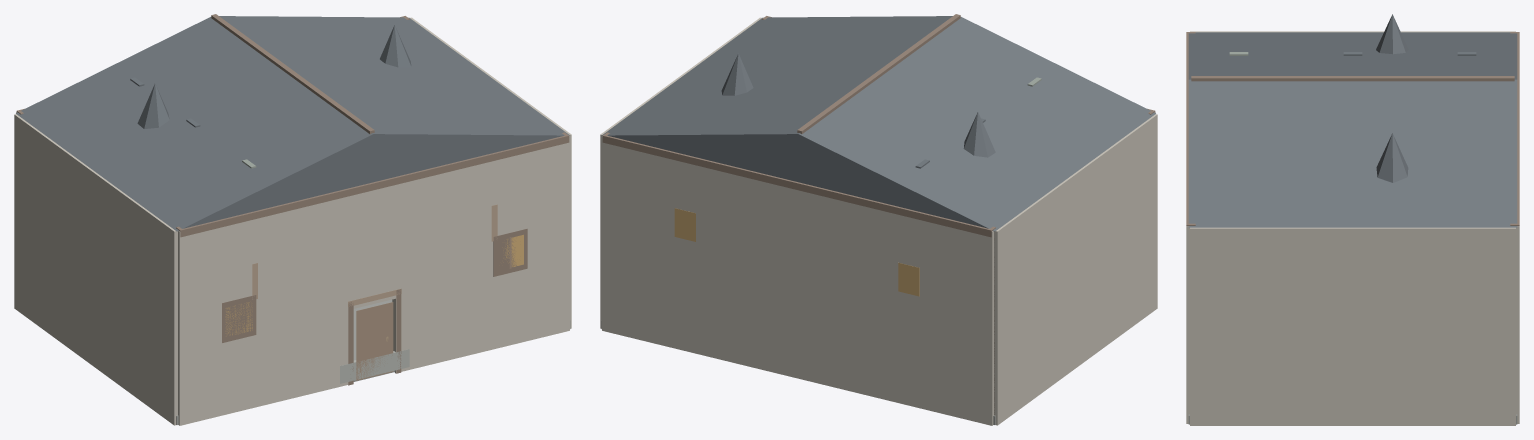
The model's file is burgomaster_manor_inhabited.glb.
3 views of the same model, side by side, from view 1: azimuth 30°, elevation 25°; view 2: azimuth 150°, elevation 25°; view 3: azimuth 270°, elevation 25° (orthographic).
Parts seen in each view (by area): view 1: burgomaster_manor_mat_01, burgomaster_manor_mat_07, burgomaster_manor_mat_02, burgomaster_manor_mat_04, burgomaster_manor_mat_09, burgomaster_manor_mat_06, burgomaster_manor_mat_03; view 2: burgomaster_manor_mat_01, burgomaster_manor_mat_07, burgomaster_manor_mat_02, burgomaster_manor_mat_06; view 3: burgomaster_manor_mat_01, burgomaster_manor_mat_07, burgomaster_manor_mat_02.
Part boxes in pixels (box(x1,y1,x2,y2)): burgomaster_manor_mat_01: box(14, 17, 571, 425); burgomaster_manor_mat_07: box(16, 16, 569, 231); burgomaster_manor_mat_02: box(16, 14, 569, 385); burgomaster_manor_mat_04: box(356, 237, 511, 380); burgomaster_manor_mat_09: box(340, 349, 409, 383); burgomaster_manor_mat_06: box(225, 234, 523, 336); burgomaster_manor_mat_03: box(252, 204, 497, 306); burgomaster_manor_mat_01: box(600, 17, 1157, 425); burgomaster_manor_mat_07: box(602, 16, 1155, 231); burgomaster_manor_mat_02: box(602, 14, 1155, 414); burgomaster_manor_mat_06: box(674, 208, 919, 296); burgomaster_manor_mat_01: box(1186, 31, 1519, 425); burgomaster_manor_mat_07: box(1188, 14, 1517, 227); burgomaster_manor_mat_02: box(1186, 32, 1519, 226).
Size of the model in its own units: 6.97 by 4.2 by 4.98.
